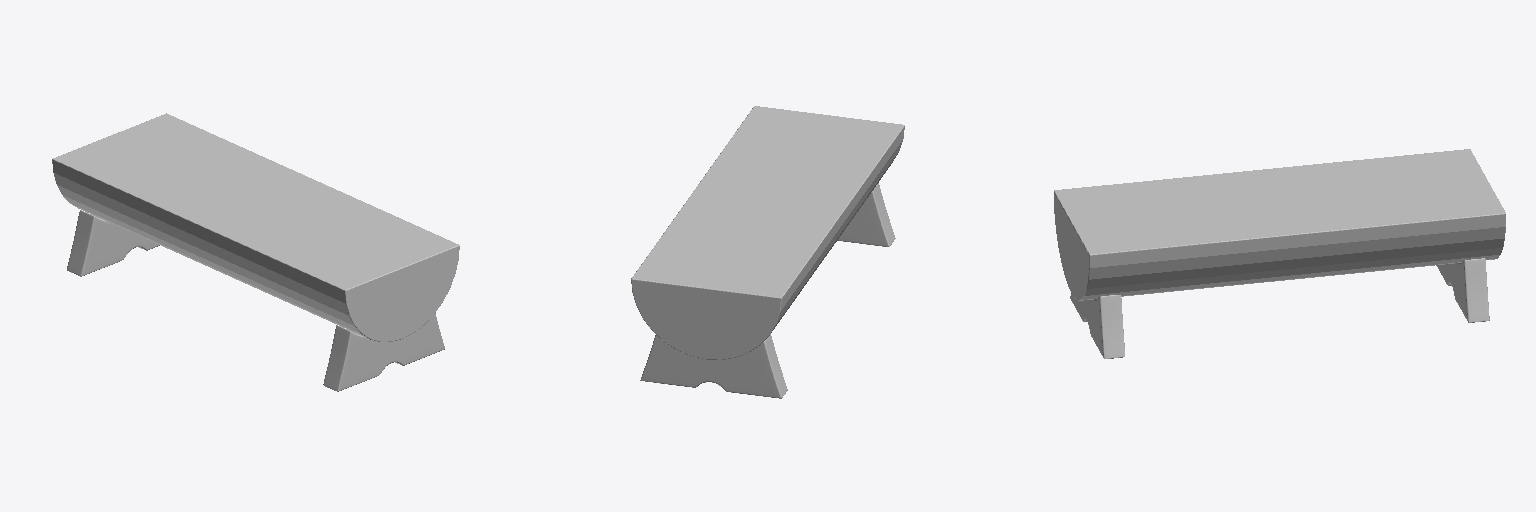
The model's file is bench.obj.
3 renders of one model, left to right at view 1: azimuth 30°, elevation 25°; view 2: azimuth 150°, elevation 25°; view 3: azimuth 270°, elevation 25°, orthographic.
Parts seen in each view (by area): view 1: Cylinder_Cylinder, Cube_Cube; view 2: Cylinder_Cylinder, Cube_Cube; view 3: Cylinder_Cylinder, Cube_Cube.
Boxes of the visible parts, x1=… form: Cylinder_Cylinder: x1=52, y1=113, x2=459, y2=341; Cube_Cube: x1=67, y1=210, x2=444, y2=391; Cylinder_Cylinder: x1=631, y1=106, x2=904, y2=359; Cube_Cube: x1=640, y1=183, x2=895, y2=398; Cylinder_Cylinder: x1=1054, y1=149, x2=1505, y2=300; Cube_Cube: x1=1070, y1=258, x2=1489, y2=358.
Bounding box in the file's own units: 8.39 × 3.99 × 15.11.